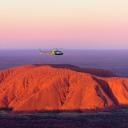helicopter: (38, 48, 67, 58)
